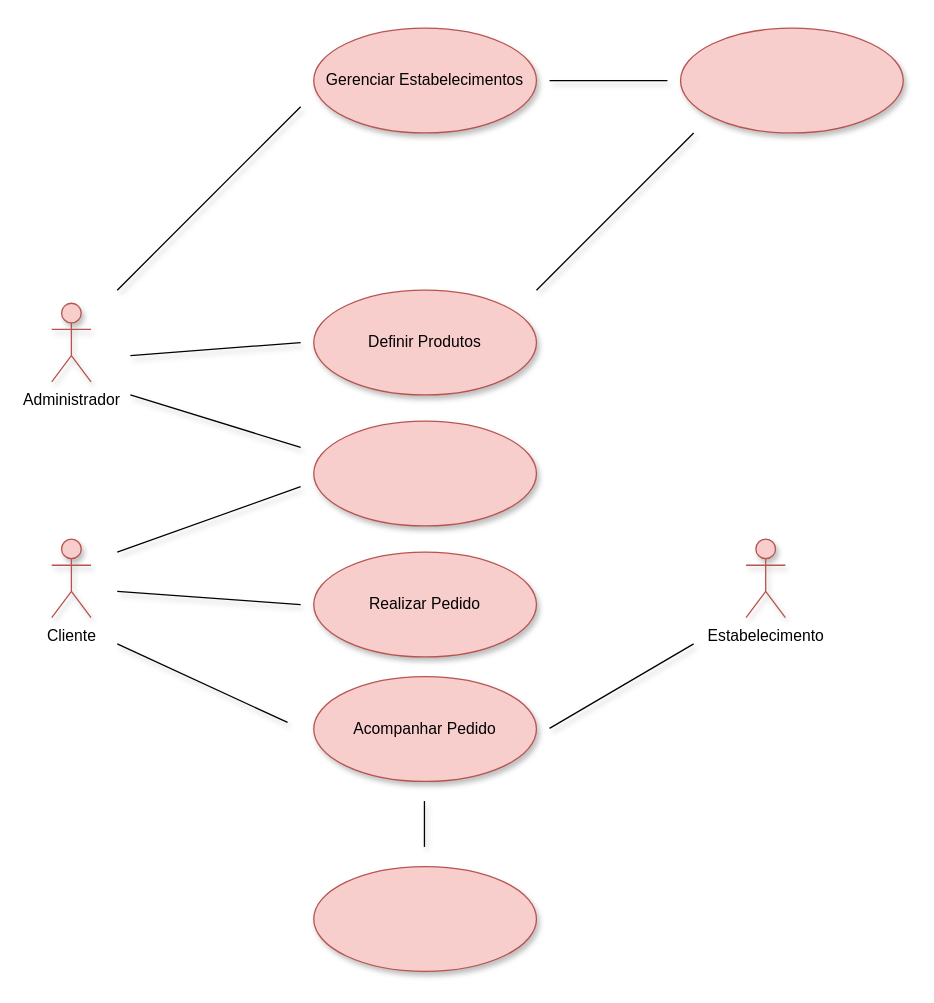
This 934x1003 diagram has some shape labels left out. Each missing label, with the centre of its shape:
"Autenticação do Usuário" belongs at [425,475].
"Definir Cardápio" belongs at [792,82].
"Visualizar Pedido" belongs at [425,920].
